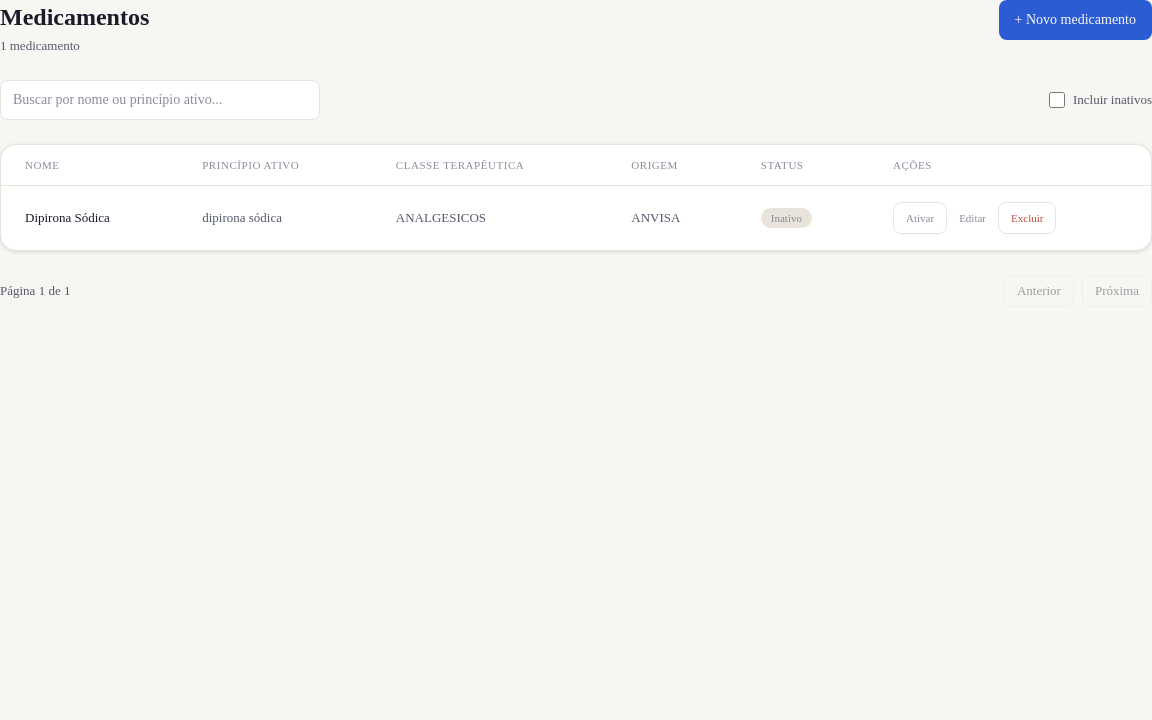
Scenario: MedicationList (integration) › activates an inactive medication after confirmation
Click the button with test id "medication-toggle-button-m1" at (920, 218), box [893,202,947,234]
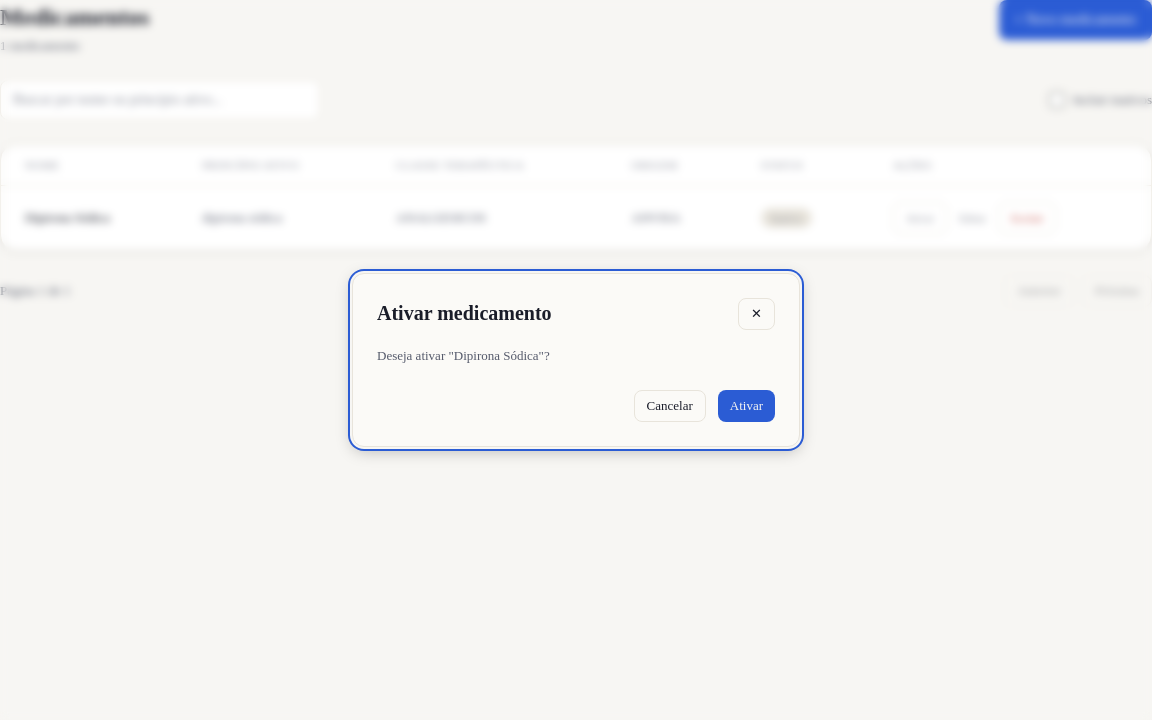
Click the button with test id "medication-toggle-dialog-confirm" at (746, 406), box [718,390,775,422]
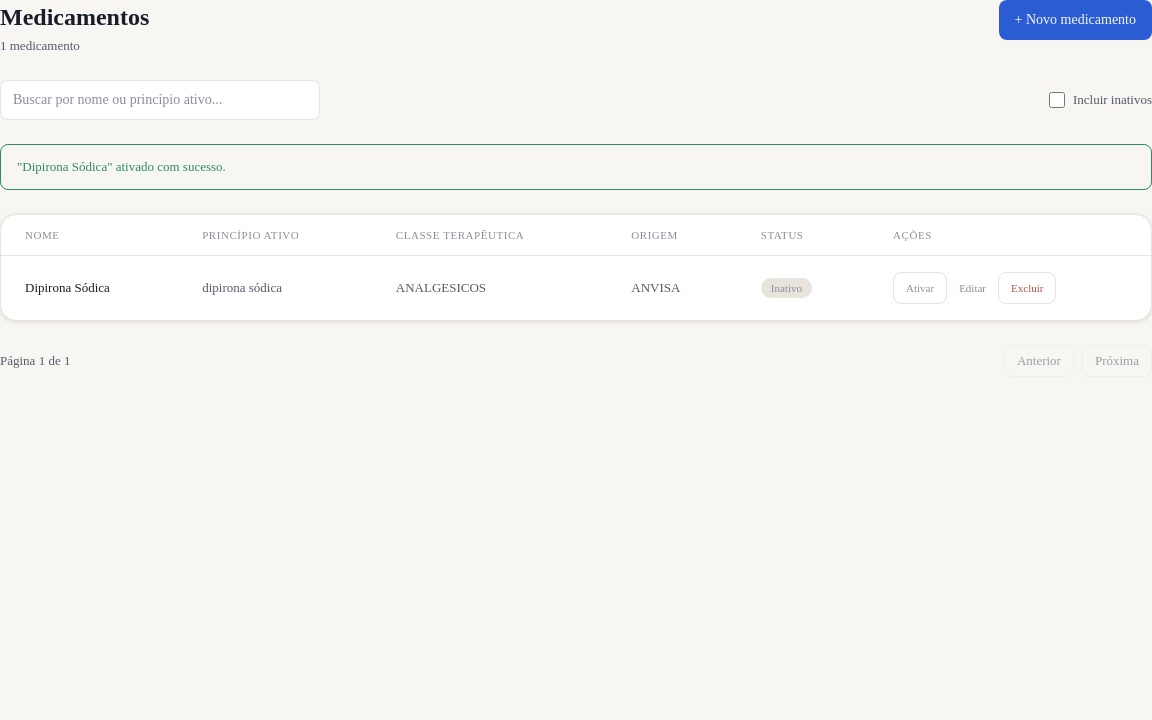
Now the message with test id "medication-list-success" shows "ativado", box [17,159,226,174]
